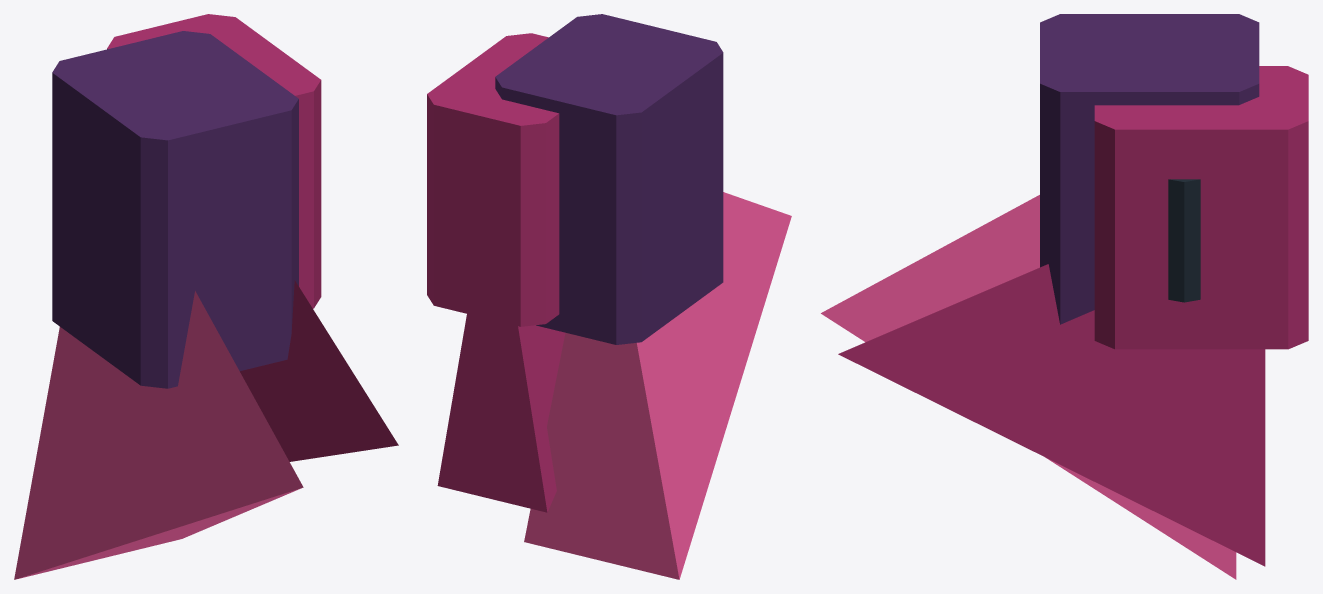
File: enemy_striker_lod_forearm_l.obj
3 renders of one model, left to right at view 1: azimuth 30°, elevation 25°; view 2: azimuth 150°, elevation 25°; view 3: azimuth 270°, elevation 25°, orthographic. The views are drawn at different scales.
Size of the model in its own units: 0.5116 by 0.96 by 0.845.
